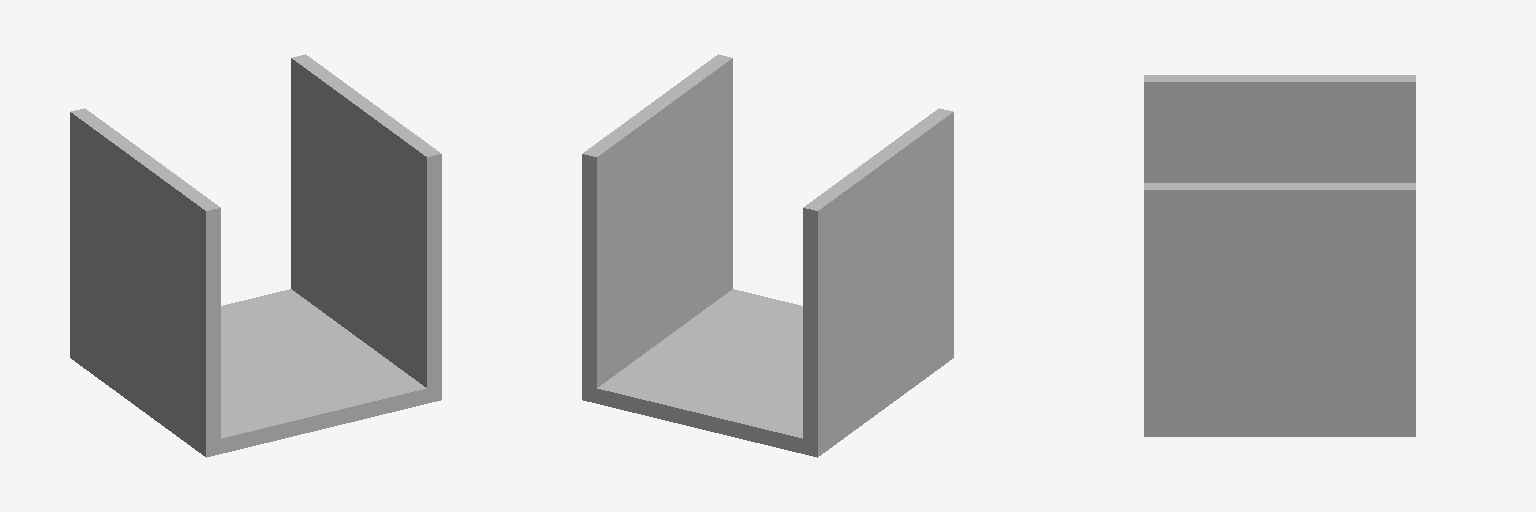
Rendered from straight.obj.
3 renders of one model, left to right at view 1: azimuth 30°, elevation 25°; view 2: azimuth 150°, elevation 25°; view 3: azimuth 270°, elevation 25°, orthographic.
Parts seen in each view (by area): view 1: wall, floor; view 2: wall, floor; view 3: wall, floor.
Part boxes in pixels (x1,y1,x2,y2): wall: (70,54,441,441); floor: (70,289,441,457); wall: (582,54,953,441); floor: (582,289,953,457); wall: (1144,75,1415,420); floor: (1144,421,1415,436).
Size of the model in its own units: 16.01 by 16 by 16.